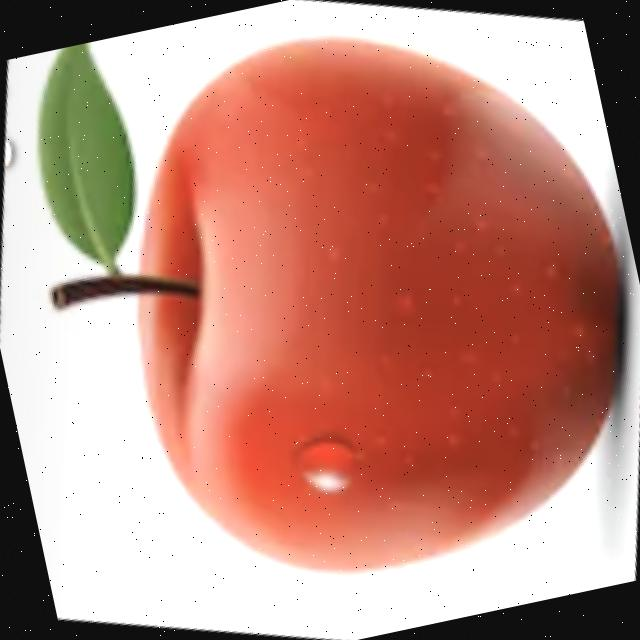Ripe: (69, 0, 640, 618)
